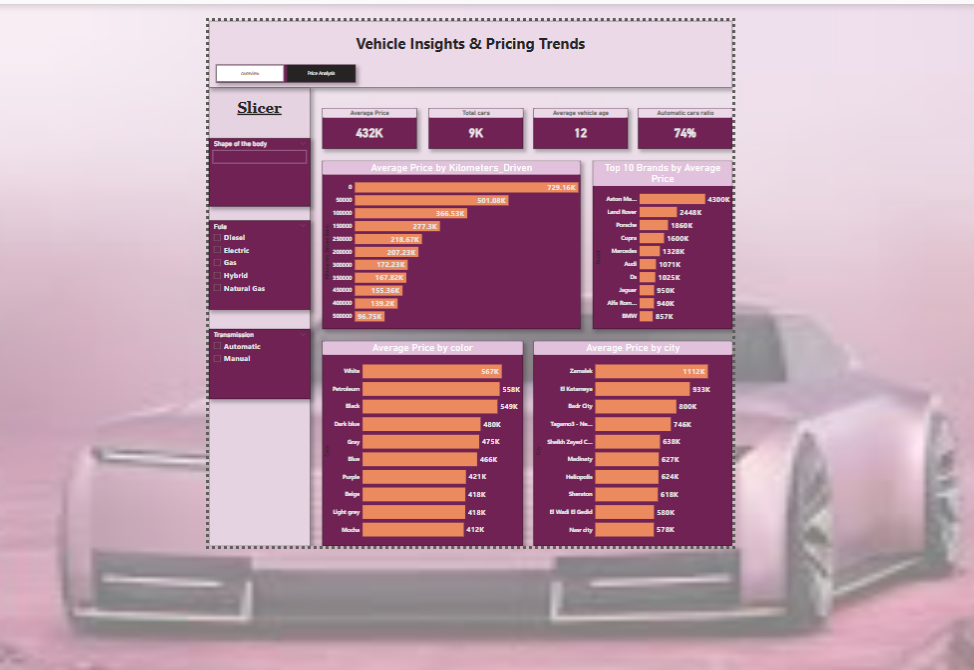

The page's visual inventory and layout, read from the dashboard file:
{"tool":"powerbi","page":{"name":"Price Analysis","canvas":[1500,1500],"ordinal":1},"visuals":[{"type":"textbox","box":[0,190,290,1310],"z":0},{"type":"slicer","fields":{"Values":["Egypt-Used-Car-Price.Body"]},"box":[0,335,290,195],"z":1000},{"type":"slicer","fields":{"Values":["Egypt-Used-Car-Price.Fule"]},"box":[0,570,290,255],"z":2000},{"type":"slicer","fields":{"Values":["Egypt-Used-Car-Price.Transmission"]},"box":[0,880,290,200],"z":3000},{"type":"card","title":"Average Price","fields":{"Values":["Measure.Average Price"]},"box":[323.2,251.8,270,115],"z":4000},{"type":"card","title":"Total cars","fields":{"Values":["Measure.Total cars"]},"box":[630,250,270,115],"z":5000},{"type":"card","title":"Automatic cars ratio","fields":{"Values":["Measure.Automatic cars ratio"]},"box":[1230,250,270,115],"z":6000},{"type":"textbox","box":[0,0,1500,190],"z":7000},{"type":"card","title":"Average vehicle age","fields":{"Values":["Measure.Manual cars ratio"]},"box":[930,250,270,115],"z":8000},{"type":"clusteredBarChart","title":"Top 10 Brands by Average Price","fields":{"Category":["Egypt-Used-Car-Price.Brand","Egypt-Used-Car-Price.Model"],"Y":["Measure.Average Price"]},"box":[1100,400,400,480],"z":9000},{"type":"clusteredBarChart","title":"Average Price by Kilometers_Driven ","fields":{"Category":["Egypt-Used-Car-Price.Kilometers_Driven (bins)"],"Y":["Measure.Average Price"]},"box":[325,400,740,480],"z":10000},{"type":"barChart","title":" Average Price by color","fields":{"Category":["Egypt-Used-Car-Price.Color"],"Y":["Measure.Average Price"]},"box":[325,915,575,585],"z":11000},{"type":"barChart","title":" Average Price by city","fields":{"Y":["Measure.Average Price"],"Category":["Egypt-Used-Car-Price.City"]},"box":[930,915,570,585],"z":12000},{"type":"pageNavigator","box":[20,122.5,400,50],"z":12001}]}

Visuals, with their boxes on the page's 1500x1500 design canvas (x1, y1, x2, y2). These are canvas units, not pixel positions in the 974x670 screenshot, which may show the page scaled, cropped or inside an application window:
textbox: (x1=0, y1=190, x2=290, y2=1500)
slicer - Egypt-Used-Car-Price.Body: (x1=0, y1=335, x2=290, y2=530)
slicer - Egypt-Used-Car-Price.Fule: (x1=0, y1=570, x2=290, y2=825)
slicer - Egypt-Used-Car-Price.Transmission: (x1=0, y1=880, x2=290, y2=1080)
"Average Price" card: (x1=323, y1=252, x2=593, y2=367)
"Total cars" card: (x1=630, y1=250, x2=900, y2=365)
"Automatic cars ratio" card: (x1=1230, y1=250, x2=1500, y2=365)
textbox: (x1=0, y1=0, x2=1500, y2=190)
"Average vehicle age" card: (x1=930, y1=250, x2=1200, y2=365)
"Top 10 Brands by Average Price" clusteredBarChart: (x1=1100, y1=400, x2=1500, y2=880)
"Average Price by Kilometers_Driven " clusteredBarChart: (x1=325, y1=400, x2=1065, y2=880)
" Average Price by color" barChart: (x1=325, y1=915, x2=900, y2=1500)
" Average Price by city" barChart: (x1=930, y1=915, x2=1500, y2=1500)
pageNavigator: (x1=20, y1=122, x2=420, y2=172)
